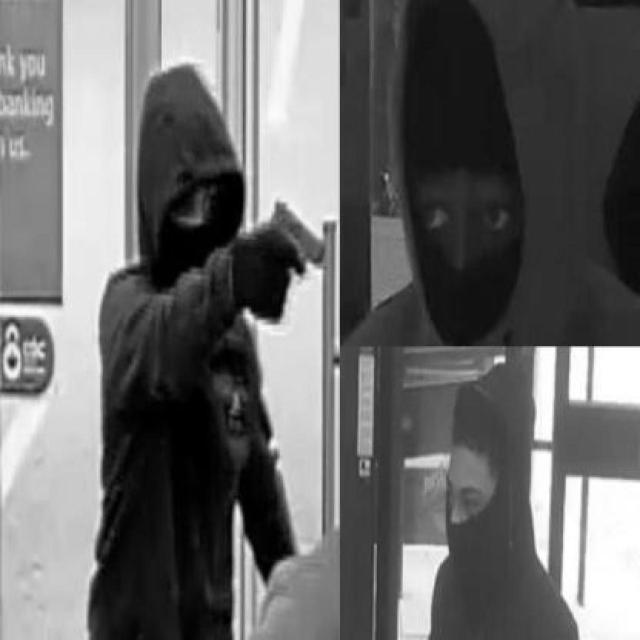weapon: (261, 197, 327, 308)
